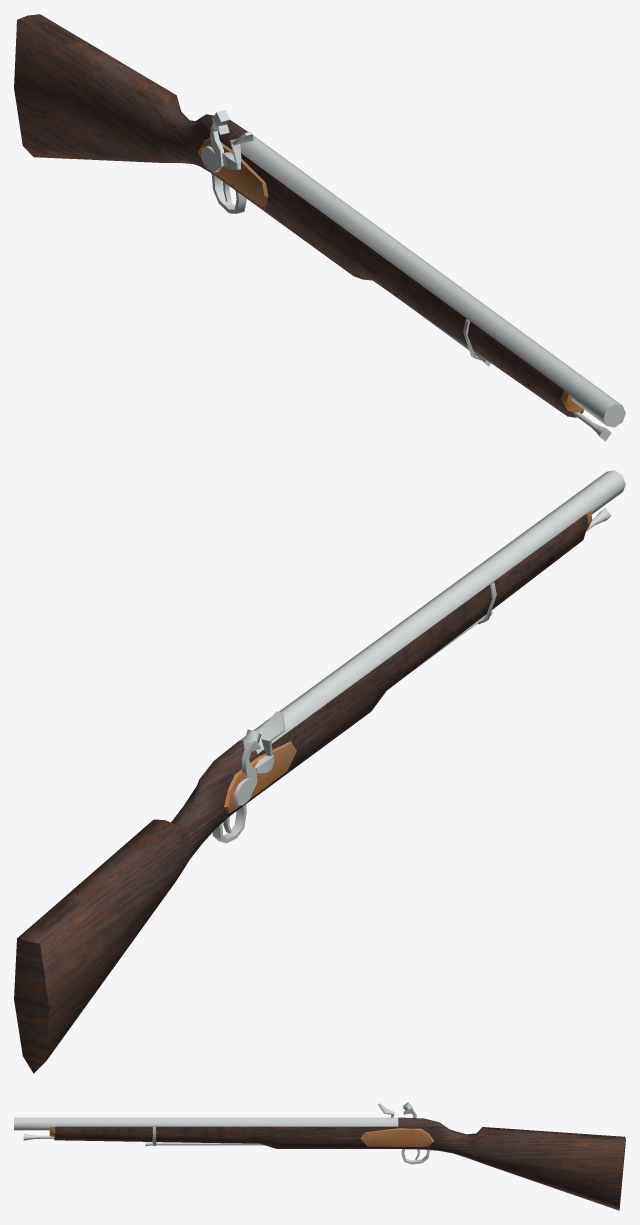
Rendered from 1206燧发卡宾枪.FBX.
The picture shows the model from 3 angles, top to bottom: view 1: azimuth 30°, elevation 25°; view 2: azimuth 150°, elevation 25°; view 3: azimuth 270°, elevation 25°; orthographic projection. The views are drawn at different scales.
Visible parts, largest first — view 1: 1206_BrownBessCarbine; view 2: 1206_BrownBessCarbine; view 3: 1206_BrownBessCarbine.
Boxes of the visible parts, x1,y1,x2,y2 form: 1206_BrownBessCarbine: [14, 14, 625, 441]; 1206_BrownBessCarbine: [14, 470, 625, 1073]; 1206_BrownBessCarbine: [14, 1102, 625, 1210].
Bounding box in the file's own units: 3.88 × 17.01 × 91.18.
Materials: 1 (1 with a texture image).
